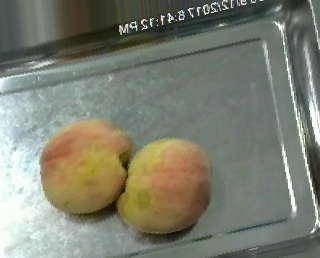Peach: (120, 136, 212, 234), (40, 119, 132, 213)
